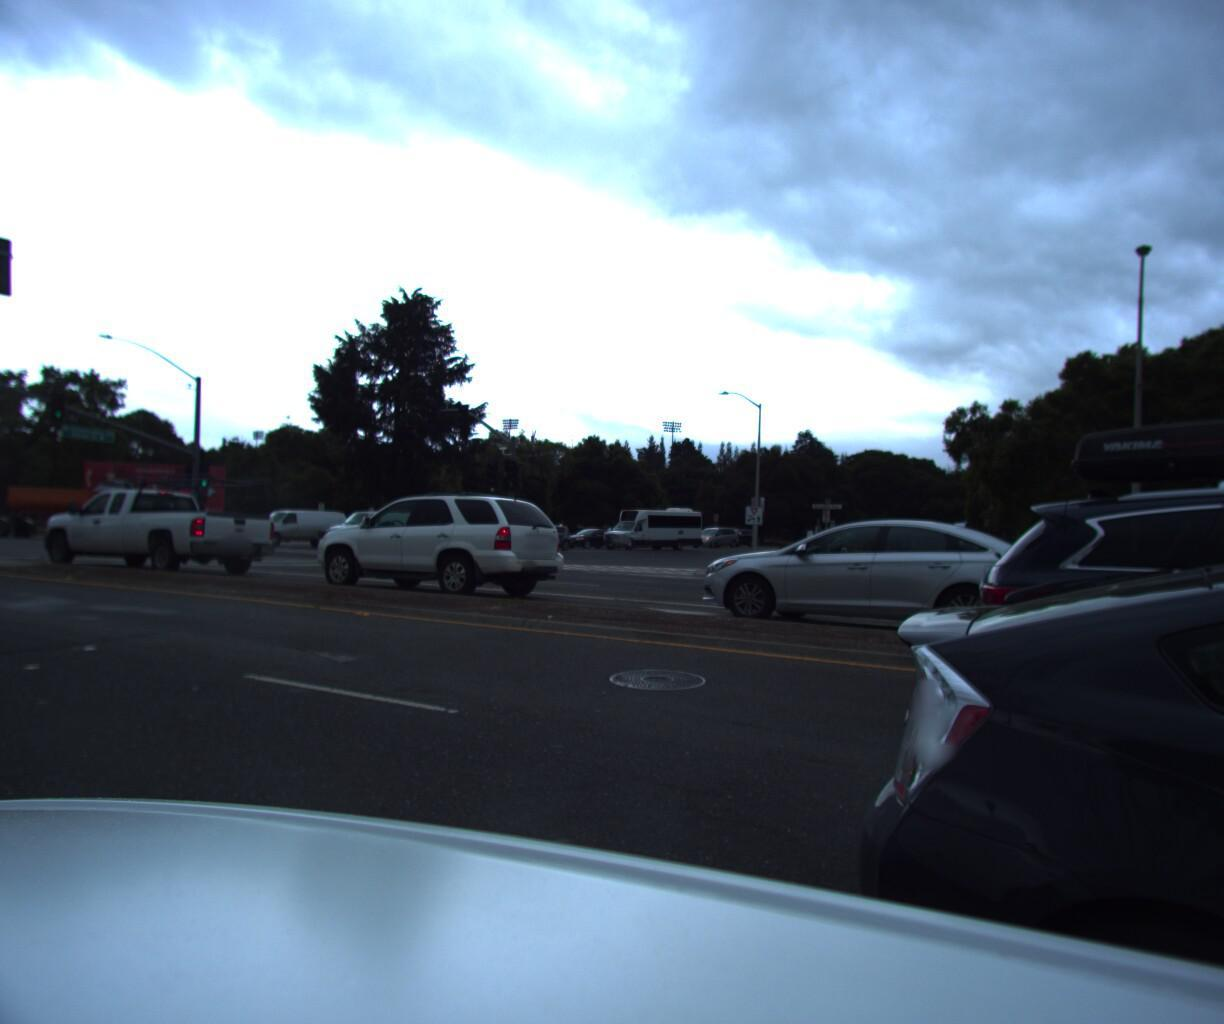car: (732, 516, 1224, 1024), (954, 351, 1224, 989), (678, 515, 1086, 662), (293, 489, 578, 611), (27, 474, 291, 584), (319, 508, 437, 554), (239, 508, 352, 550), (305, 515, 412, 552), (505, 525, 578, 553), (557, 529, 624, 552), (688, 532, 746, 555)
other_vehicle: (595, 503, 707, 554)
truck: (0, 483, 114, 544), (0, 475, 2, 539)
